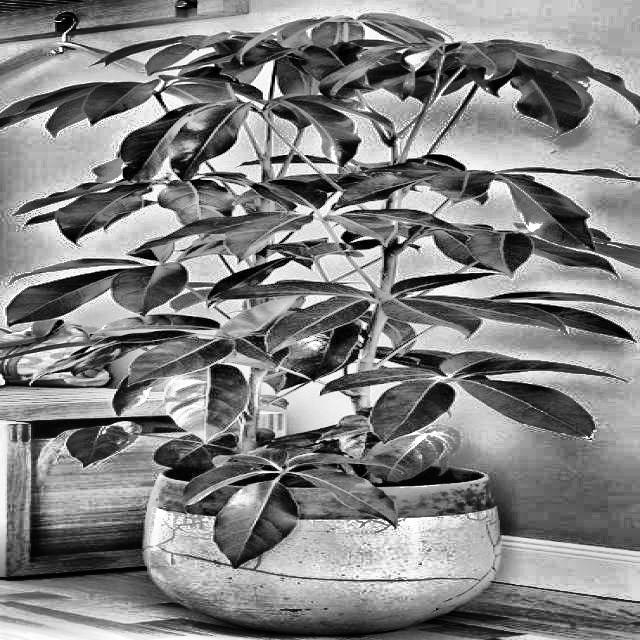plants: (41, 26, 638, 597)
